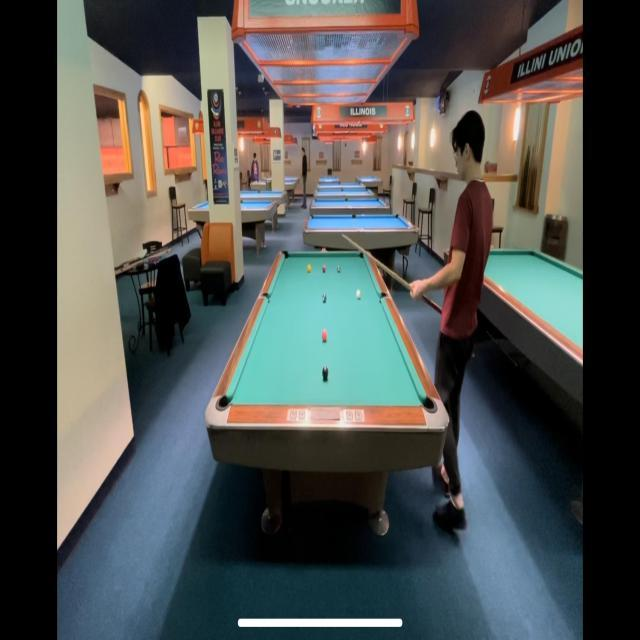Ball: (322, 366, 328, 382), (322, 330, 327, 342), (322, 292, 327, 304), (356, 288, 361, 300), (308, 264, 312, 274), (337, 264, 341, 274), (323, 265, 326, 273)
Pocket: (418, 392, 438, 415), (216, 394, 234, 412), (376, 290, 388, 304), (280, 248, 290, 260), (358, 250, 368, 259), (262, 292, 270, 302)
